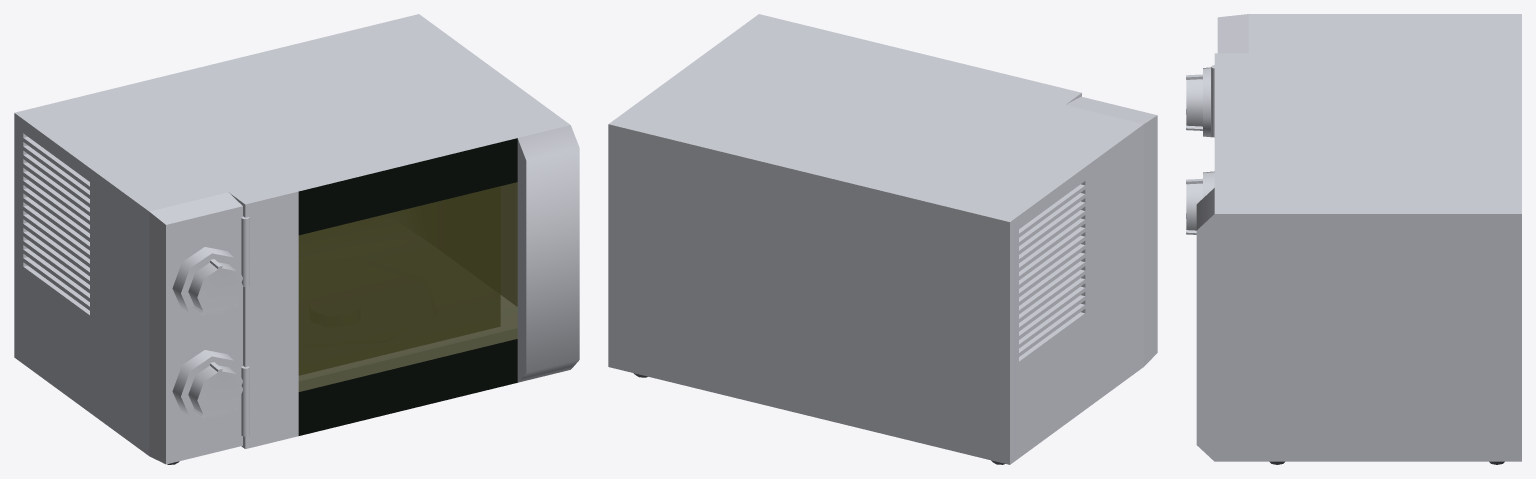
The model's file is microwave.glb.
3 renders of one model, left to right at view 1: azimuth 30°, elevation 25°; view 2: azimuth 150°, elevation 25°; view 3: azimuth 270°, elevation 25°, orthographic. The views are drawn at different scales.
Visible parts, largest first — view 1: appliance_microwave_door_Cube.269; view 2: appliance_microwave_door_Cube.269; view 3: appliance_microwave_door_Cube.269.
Boxes of the visible parts, x1,y1,x2,y2 form: appliance_microwave_door_Cube.269: (14, 14, 579, 464); appliance_microwave_door_Cube.269: (608, 14, 1157, 464); appliance_microwave_door_Cube.269: (1186, 14, 1521, 464).
Size of the model in its own units: 9.99 by 6.03 by 7.09.
3 materials, 3 textured.
